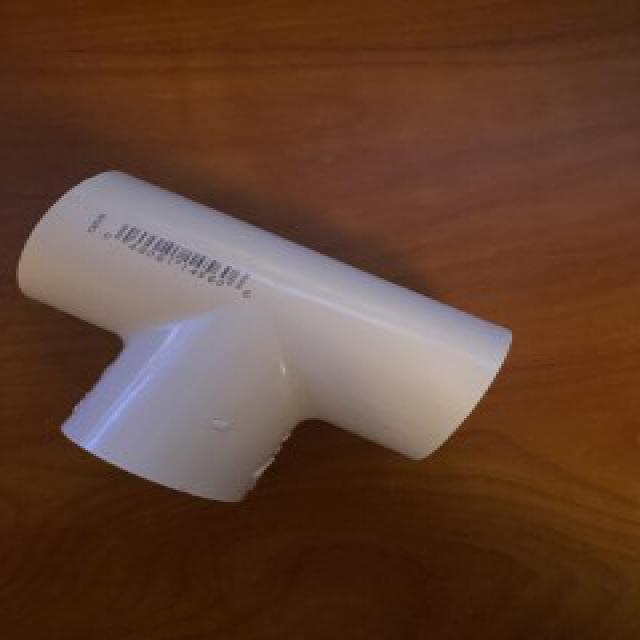T Joint: (14, 171, 514, 506)
